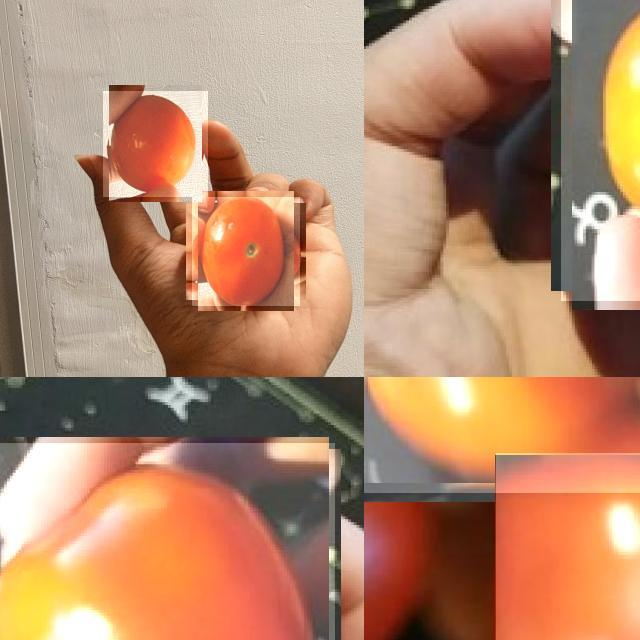Fresh Tomato: (0, 443, 334, 640), (364, 377, 640, 492), (496, 453, 640, 640), (561, 0, 640, 300), (364, 377, 433, 640), (192, 197, 300, 306), (103, 91, 208, 197)
